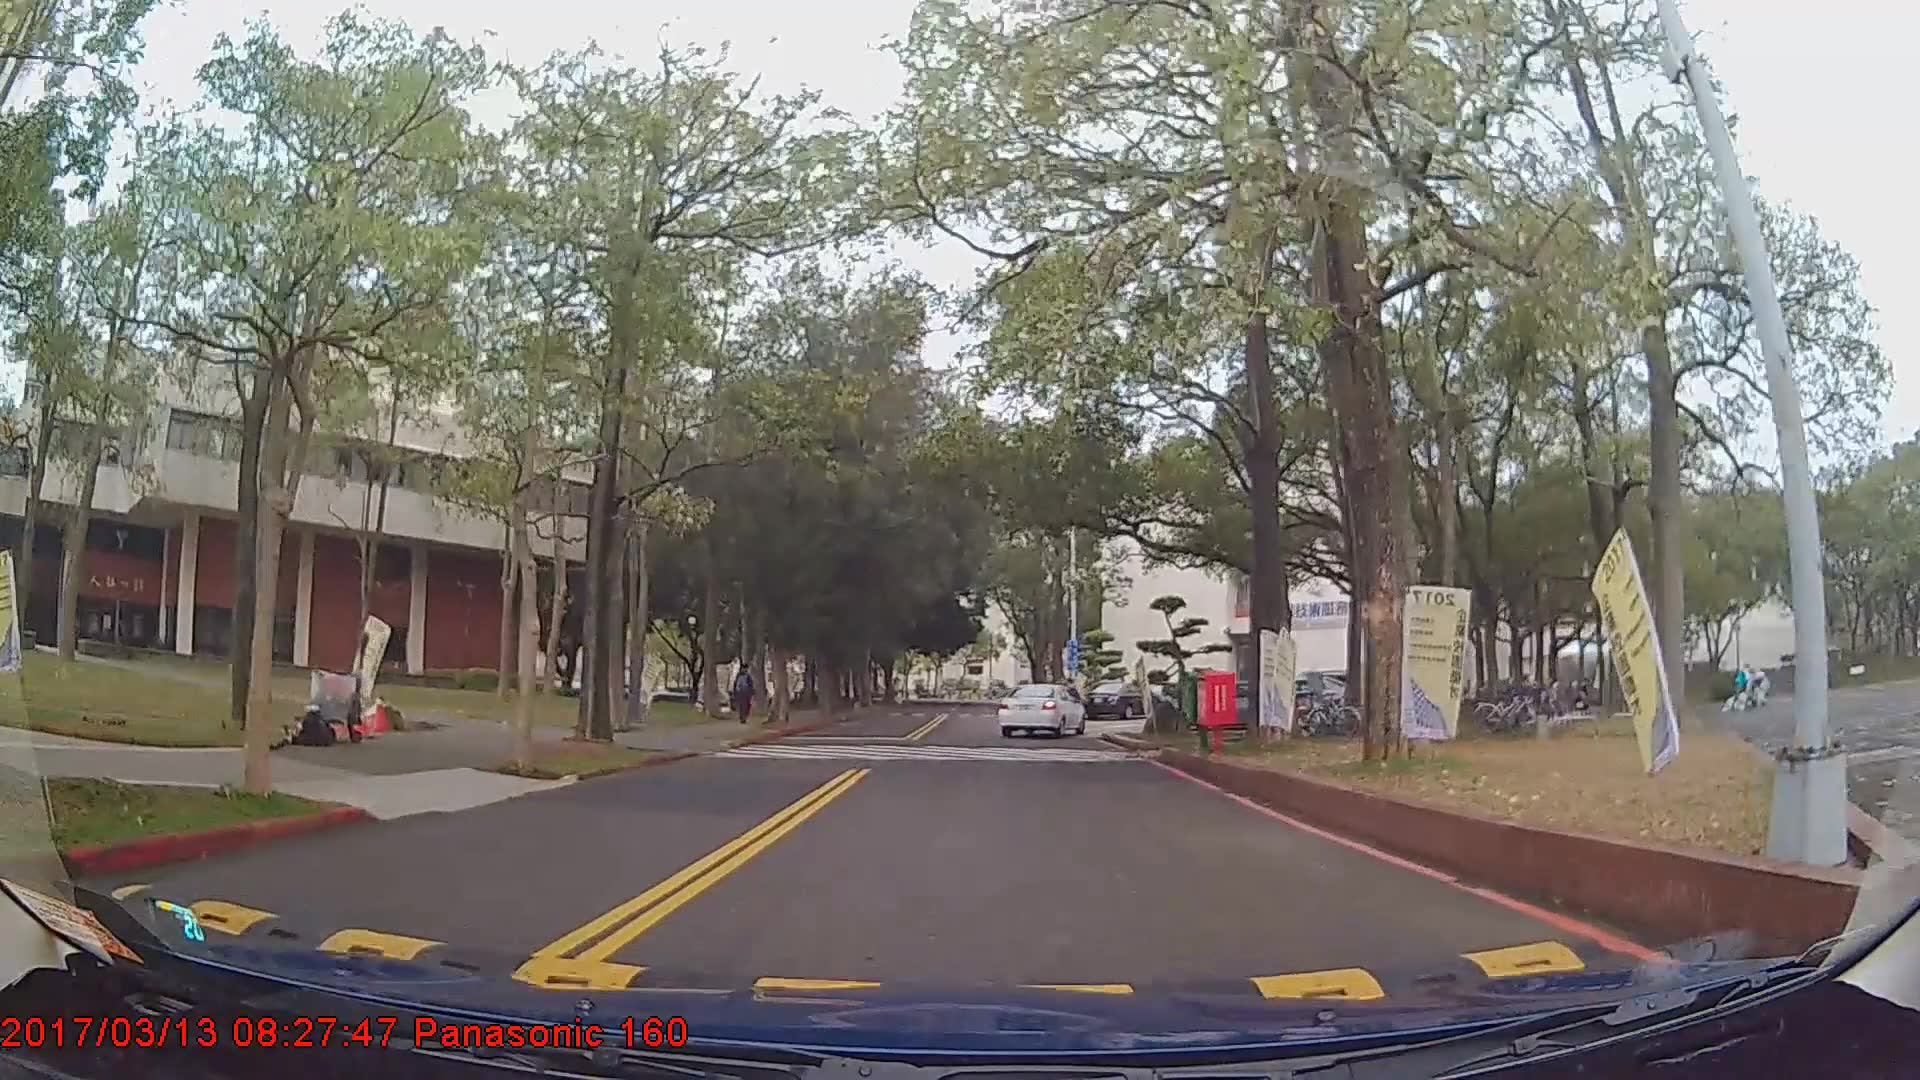pedestrian: (733, 664, 759, 726)
vehicle: (997, 681, 1085, 739), (1078, 680, 1157, 720)
